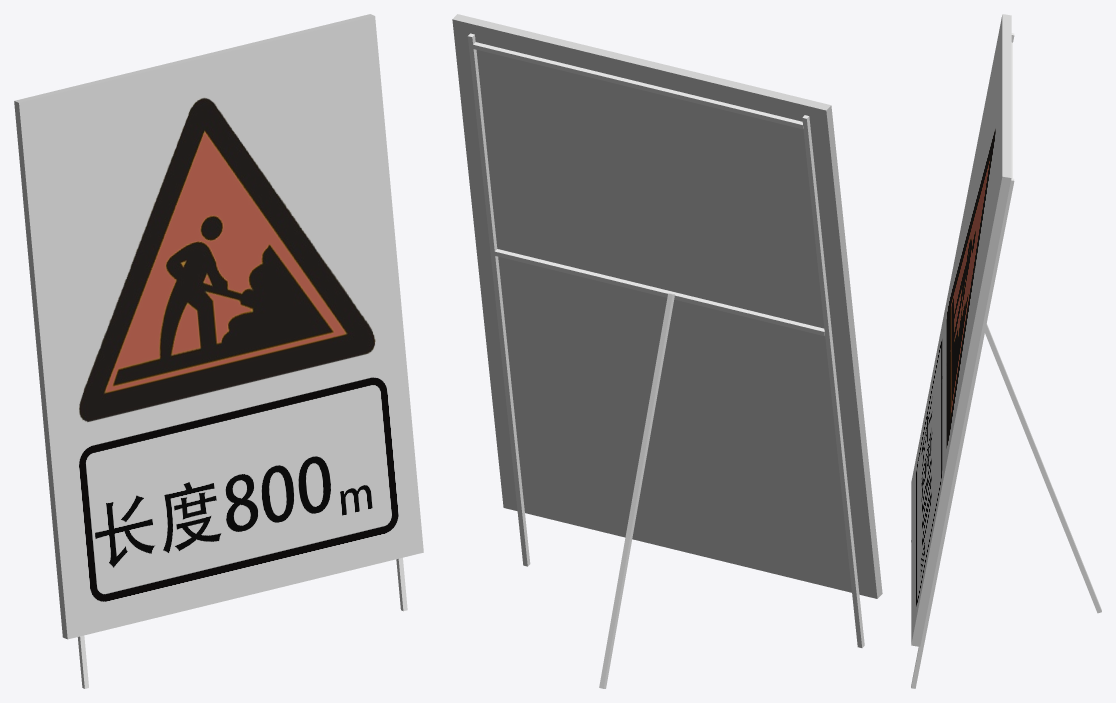
The picture shows the model from 3 angles, left to right: view 1: azimuth 30°, elevation 25°; view 2: azimuth 150°, elevation 25°; view 3: azimuth 270°, elevation 25°; orthographic projection. The views are drawn at different scales.
Visible parts, largest first — view 1: 立方体-材质.3, 立方体-材质.5; view 2: 立方体-材质.5, 立方体.4, 立方体.3, 立方体.7, 立方体.5, 立方体.6; view 3: 立方体-材质.3, 立方体-材质.5, 立方体.3, 立方体.7.
Part boxes in pixels (box(x1,y1,x2,y2)): 立方体-材质.3: box(19, 16, 423, 639); 立方体-材质.5: box(14, 14, 374, 639); 立方体-材质.5: box(452, 14, 882, 598); 立方体.4: box(802, 115, 864, 647); 立方体.3: box(468, 33, 530, 566); 立方体.7: box(599, 293, 674, 688); 立方体.5: box(469, 42, 803, 129); 立方体.6: box(491, 249, 824, 336); 立方体-材质.3: box(911, 15, 1002, 643); 立方体-材质.5: box(911, 14, 1011, 646); 立方体.3: box(911, 178, 1014, 688); 立方体.7: box(985, 323, 1101, 613).
Bounding box in the file's own units: 5.71 × 8.56 × 2.83.
Materials: 3 (1 with a texture image).
